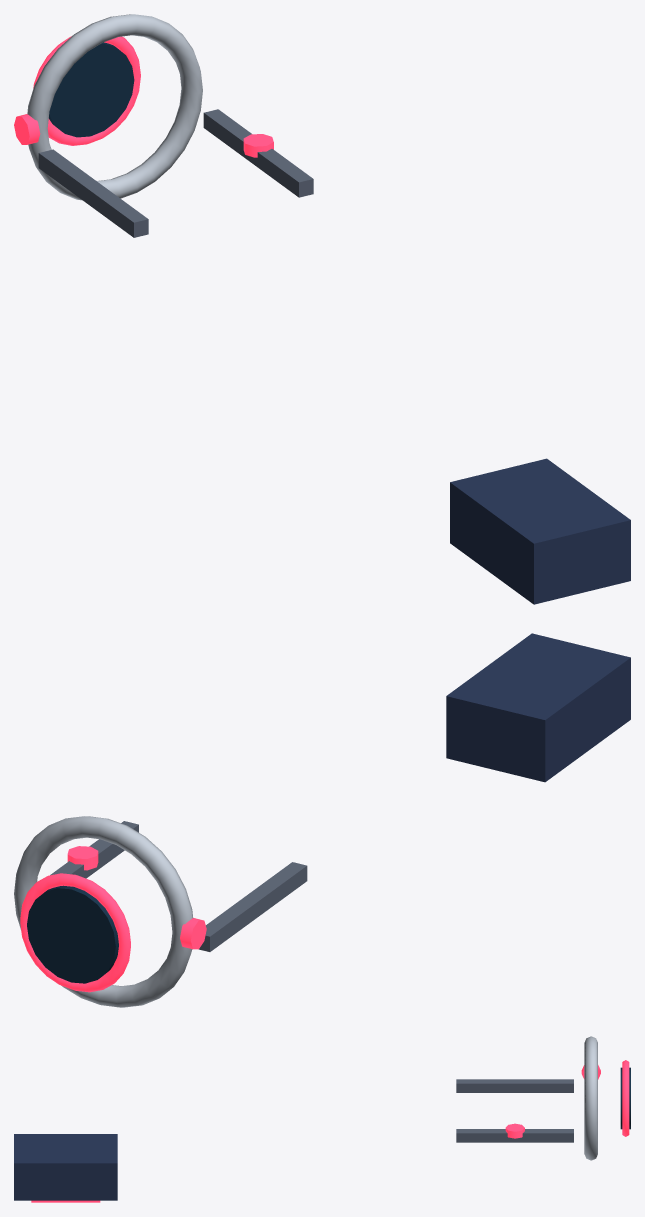
Rendered from tower_filament_peak_s5.glb.
The picture shows the model from 3 angles, top to bottom: view 1: azimuth 30°, elevation 25°; view 2: azimuth 150°, elevation 25°; view 3: azimuth 270°, elevation 25°; orthographic projection. The views are drawn at different scales.
Parts seen in each view (by area): view 1: filament_coupler, filament_aperture_ring, filament_lens_b, filament_lens_brace_r, filament_lens_brace_l, filament_lens_b_ring; view 2: filament_coupler, filament_aperture_ring, filament_lens_b, filament_lens_b_ring, filament_lens_brace_r, filament_lens_brace_l, filament_up_peak_l3_stud, filament_up_peak_l2_stud; view 3: filament_coupler, filament_aperture_ring, filament_lens_brace_r, filament_lens_brace_l, filament_lens_b_ring, filament_lens_b.
Part boxes in pixels (<box>): filament_coupler: <box>450,458,630,604</box>; filament_aperture_ring: <box>27,14,202,200</box>; filament_lens_b: <box>49,42,134,137</box>; filament_lens_brace_r: <box>38,149,148,237</box>; filament_lens_brace_l: <box>203,109,313,197</box>; filament_lens_b_ring: <box>33,36,140,145</box>; filament_coupler: <box>446,633,630,782</box>; filament_aperture_ring: <box>14,816,193,1007</box>; filament_lens_b: <box>27,885,118,983</box>; filament_lens_b_ring: <box>20,873,130,992</box>; filament_lens_brace_r: <box>199,862,307,951</box>; filament_lens_brace_l: <box>50,821,138,878</box>; filament_up_peak_l3_stud: <box>180,918,206,949</box>; filament_up_peak_l2_stud: <box>67,846,98,870</box>; filament_coupler: <box>14,1134,117,1200</box>; filament_aperture_ring: <box>584,1036,597,1160</box>; filament_lens_brace_r: <box>456,1079,573,1092</box>; filament_lens_brace_l: <box>456,1129,573,1142</box>; filament_lens_b_ring: <box>622,1060,629,1136</box>; filament_lens_b: <box>620,1067,630,1129</box>.
Size of the model in its own units: 0.389 by 0.48 by 1.79.
